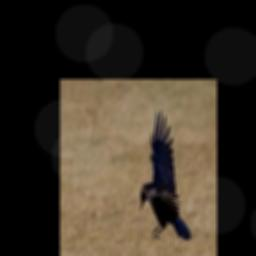Crow: (140, 110, 192, 242)
